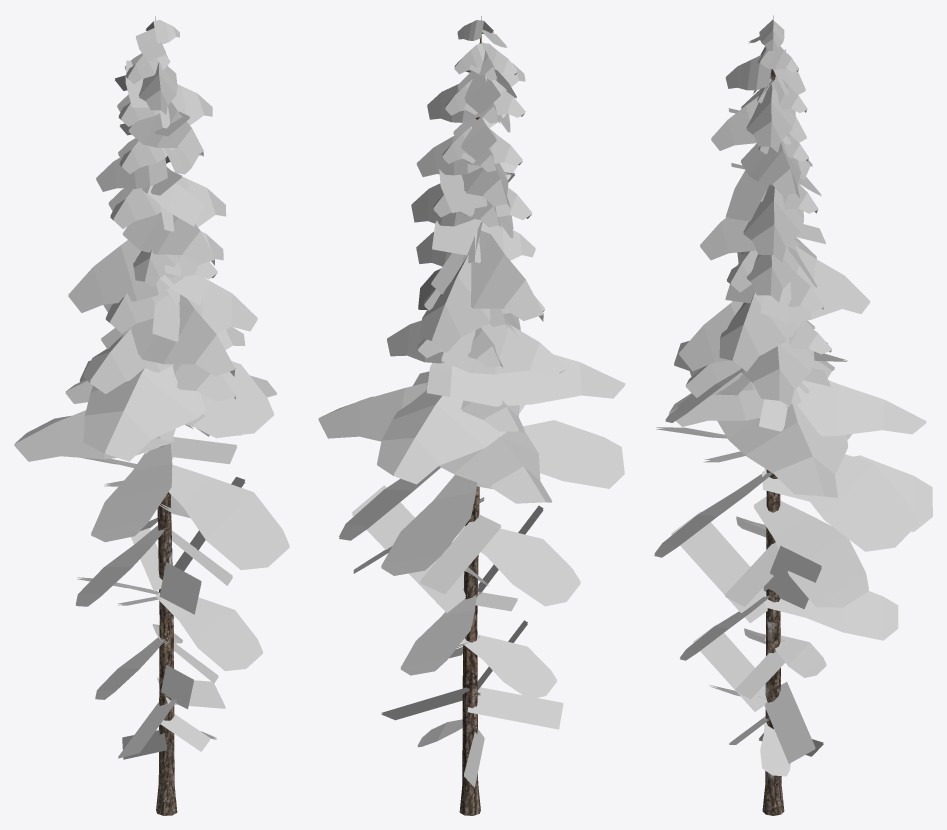
Rendered from Pine_003.fbx.
3 renders of one model, left to right at view 1: azimuth 30°, elevation 25°; view 2: azimuth 150°, elevation 25°; view 3: azimuth 270°, elevation 25°, orthographic.
Parts seen in each view (by area): view 1: Tree_Fir_Leaves3, Tree_Fir_Trunk3; view 2: Tree_Fir_Leaves3, Tree_Fir_Trunk3; view 3: Tree_Fir_Leaves3, Tree_Fir_Trunk3.
Boxes of the visible parts, left/top/right/bottom form: Tree_Fir_Leaves3: left=14, top=19, right=289, bottom=759; Tree_Fir_Trunk3: left=155, top=16, right=177, bottom=815; Tree_Fir_Leaves3: left=318, top=20, right=625, bottom=787; Tree_Fir_Trunk3: left=459, top=16, right=481, bottom=815; Tree_Fir_Leaves3: left=654, top=19, right=932, bottom=776; Tree_Fir_Trunk3: left=762, top=15, right=784, bottom=815.
Size of the model in its own units: 955 by 3043 by 971.
